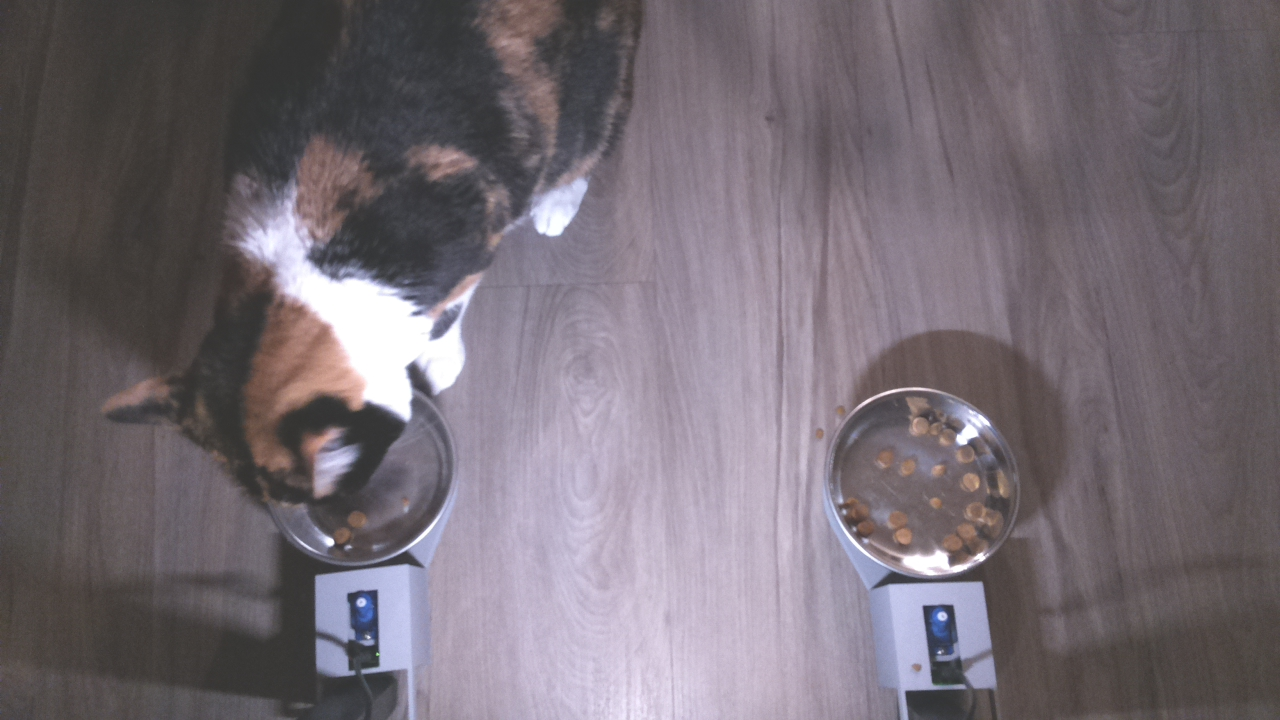bella_eating: (85, 256, 464, 559)
open_bowl: (821, 384, 1028, 584)
